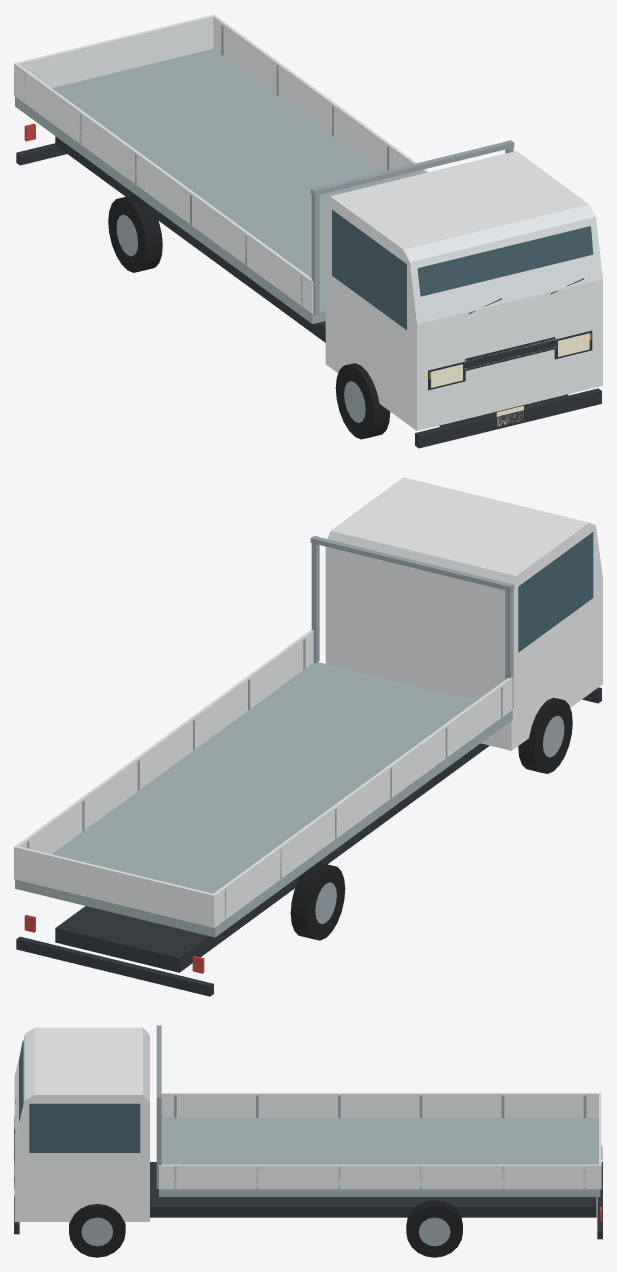
The model's file is truck4t.glb.
3 views of the same model, one above another, from view 1: azimuth 30°, elevation 25°; view 2: azimuth 150°, elevation 25°; view 3: azimuth 270°, elevation 25° (orthographic). The views are drawn at different scales.
Parts seen in each view (by area): view 1: cab, flatbed-floor, sideboard (×2), tailgate, windshield, side-window, tire (×2), front-bumper, chassis, headboard-top, wheel-hub (×2), grille (+2 smaller); view 2: flatbed-floor, cab, sideboard (×2), chassis, tailgate, side-window, tire (×2), rear-bumper, headboard (×2), headboard-top, wheel-hub (×2); view 3: flatbed-floor, sideboard (×2), cab, chassis, side-window, tire (×2), wheel-hub (×2), headboard, headboard-top, windshield.
Boxes of the visible parts, bbox=[...] form: cab: bbox=[325, 151, 602, 430]; flatbed-floor: bbox=[15, 49, 393, 323]; sideboard (×2): bbox=[15, 15, 428, 313]; tailgate: bbox=[14, 14, 215, 95]; windshield: bbox=[417, 226, 593, 296]; side-window: bbox=[332, 209, 406, 330]; tire (×2): bbox=[108, 194, 390, 439]; front-bumper: bbox=[415, 388, 601, 448]; chassis: bbox=[55, 136, 568, 426]; headboard-top: bbox=[310, 140, 514, 195]; wheel-hub (×2): bbox=[116, 214, 365, 422]; grille: bbox=[465, 337, 555, 370]; flatbed-floor: bbox=[15, 662, 512, 937]; cab: bbox=[325, 477, 602, 750]; sideboard (×2): bbox=[15, 629, 512, 926]; chassis: bbox=[55, 743, 489, 972]; tailgate: bbox=[14, 846, 215, 927]; side-window: bbox=[518, 532, 593, 652]; tire (×2): bbox=[290, 697, 572, 940]; rear-bumper: bbox=[16, 936, 213, 996]; headboard (×2): bbox=[311, 536, 513, 708]; headboard-top: bbox=[310, 536, 514, 591]; wheel-hub (×2): bbox=[315, 715, 564, 923]; flatbed-floor: bbox=[159, 1118, 600, 1196]; sideboard (×2): bbox=[159, 1093, 600, 1189]; cab: bbox=[14, 1027, 149, 1221]; chassis: bbox=[150, 1162, 596, 1217]; side-window: bbox=[29, 1103, 140, 1152]; tire (×2): bbox=[69, 1200, 462, 1257]; wheel-hub (×2): bbox=[81, 1217, 450, 1246]; headboard: bbox=[156, 1095, 161, 1188]; headboard-top: bbox=[156, 1027, 161, 1101]; windshield: bbox=[19, 1041, 23, 1121].
Bounding box in the file's own units: 2.47 × 2.55 × 8.48.
